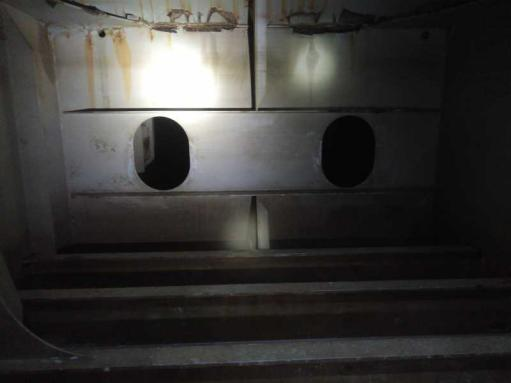corrosion: (112, 26, 140, 98), (31, 22, 66, 79), (78, 28, 100, 106)
